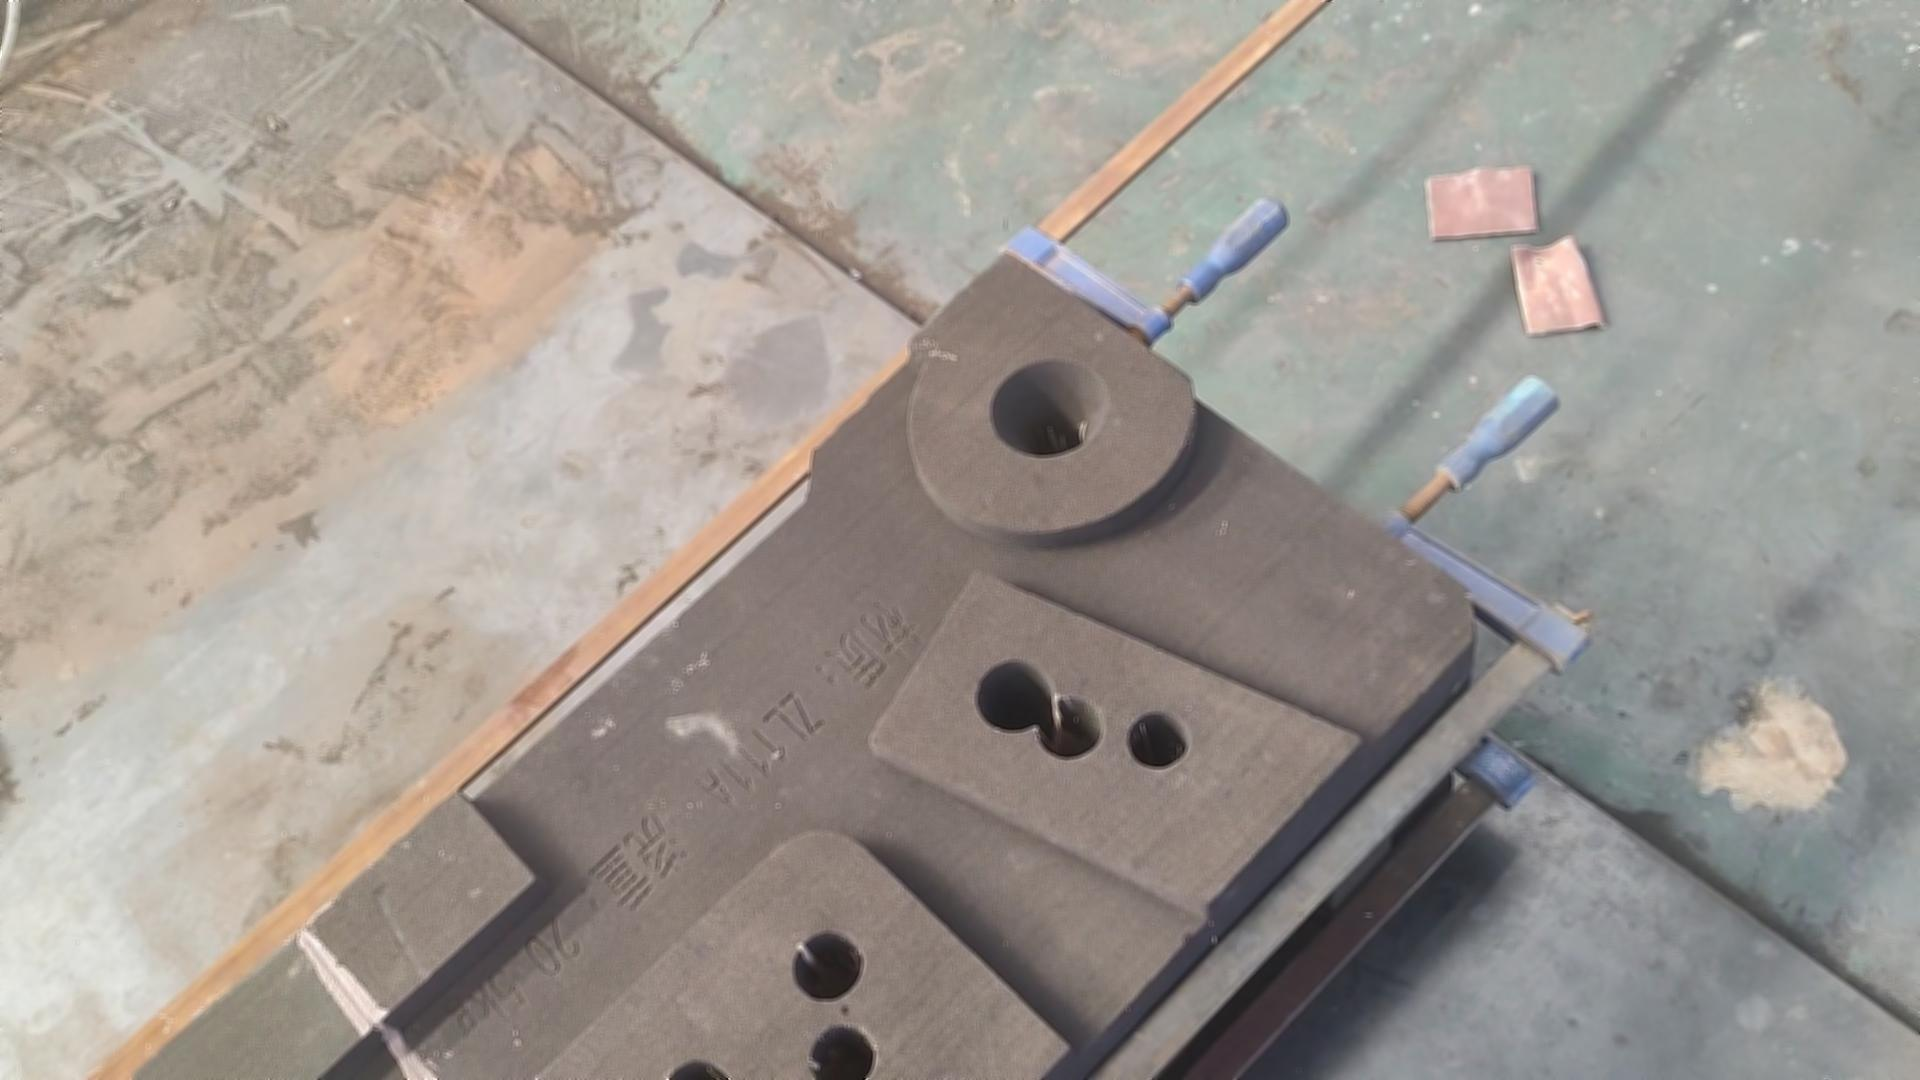pouring hole: (989, 360, 1106, 458)
